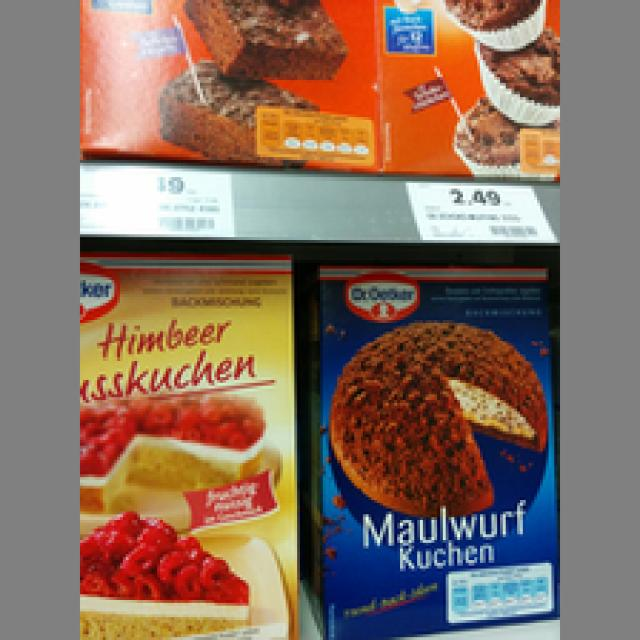groceries: (309, 260, 557, 637), (77, 249, 294, 637)
